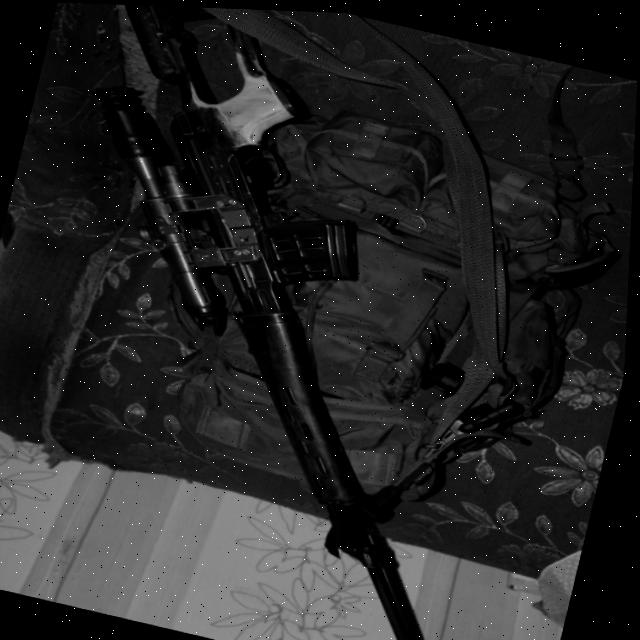firearm: (0, 0, 623, 640)
